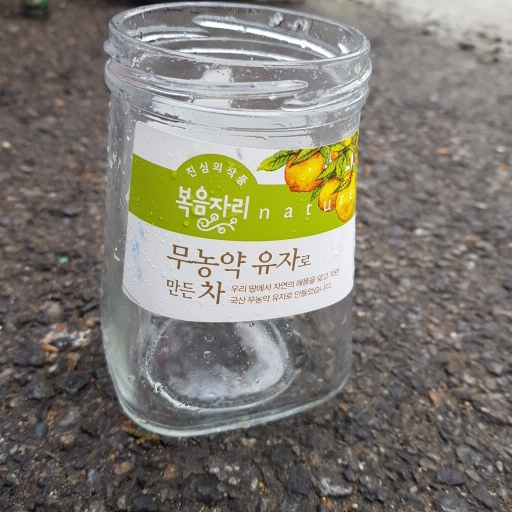Glass_5: (95, 4, 375, 442)
